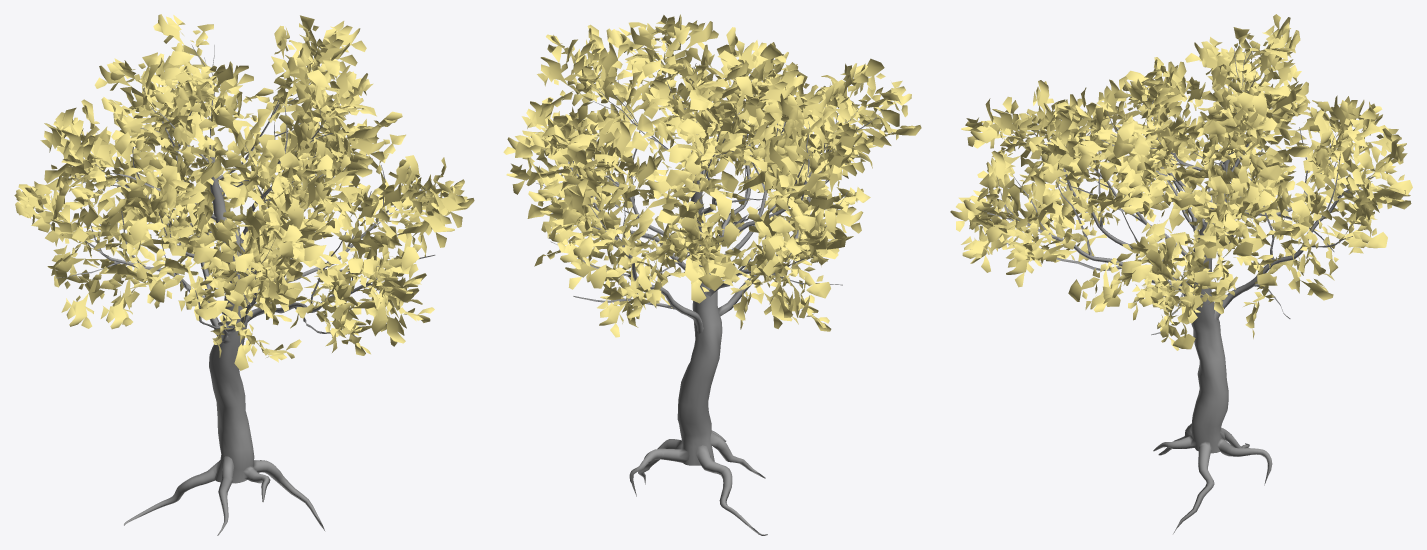
File: tree_02_LOD0.FBX
3 renders of one model, left to right at view 1: azimuth 30°, elevation 25°; view 2: azimuth 150°, elevation 25°; view 3: azimuth 270°, elevation 25°, orthographic. The views are drawn at different scales.
Visible parts, largest first — view 1: Tree_02_LOD0; view 2: Tree_02_LOD0; view 3: Tree_02_LOD0.
Part boxes in pixels (x1,y1,x2,y2): Tree_02_LOD0: [14, 14, 474, 535]; Tree_02_LOD0: [503, 14, 921, 535]; Tree_02_LOD0: [950, 14, 1412, 533].
Bounding box in the file's own units: 7.96 × 9.56 × 8.5.
